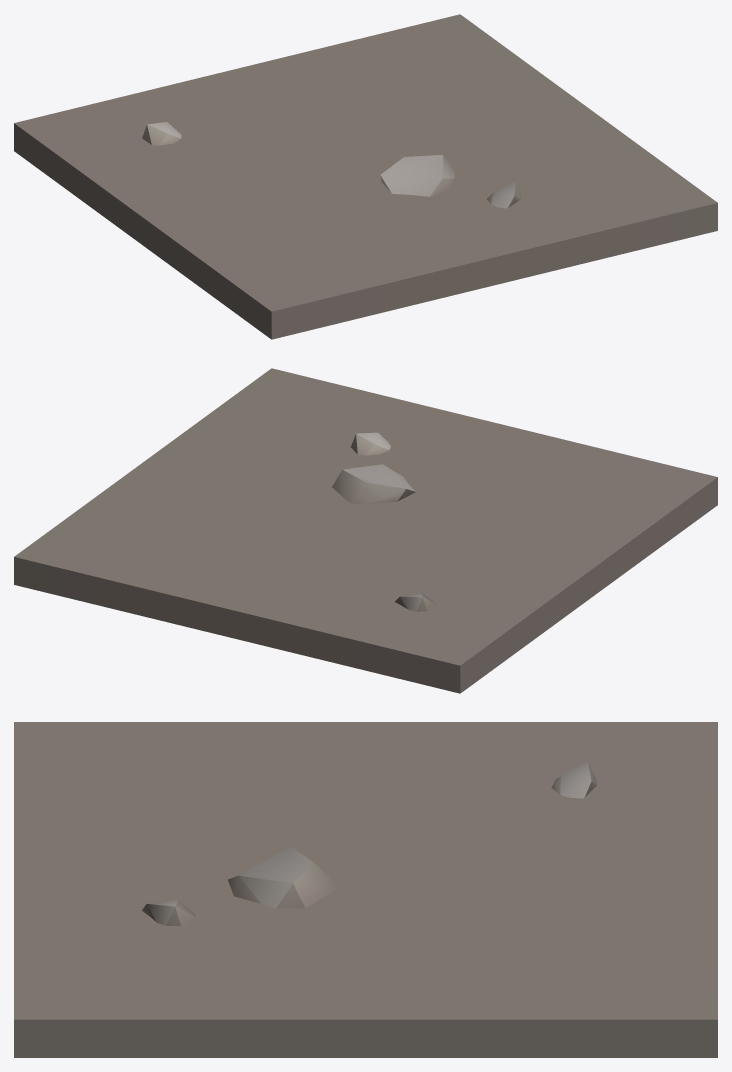
File: floor_dirt_small_A.glb
The picture shows the model from 3 angles, top to bottom: view 1: azimuth 30°, elevation 25°; view 2: azimuth 150°, elevation 25°; view 3: azimuth 270°, elevation 25°; orthographic projection. The views are drawn at different scales.
Parts seen in each view (by area): view 1: floor_dirt_small_A; view 2: floor_dirt_small_A; view 3: floor_dirt_small_A.
Boxes of the visible parts, x1=… form: floor_dirt_small_A: x1=14, y1=14, x2=717, y2=339; floor_dirt_small_A: x1=14, y1=368, x2=717, y2=693; floor_dirt_small_A: x1=14, y1=722, x2=717, y2=1057.
Bounding box in the file's own units: 2 × 0.1863 × 2.
1 material, 1 textured.
